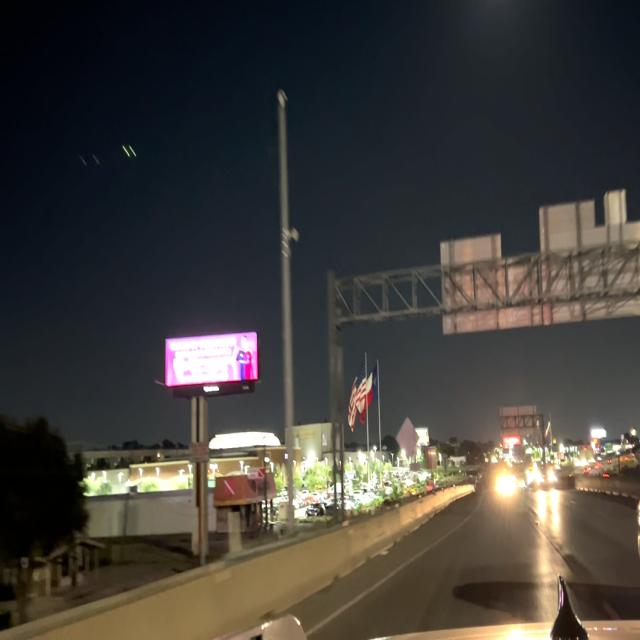back-of-sign: (435, 177, 640, 341), (497, 397, 540, 440), (393, 411, 419, 458)
